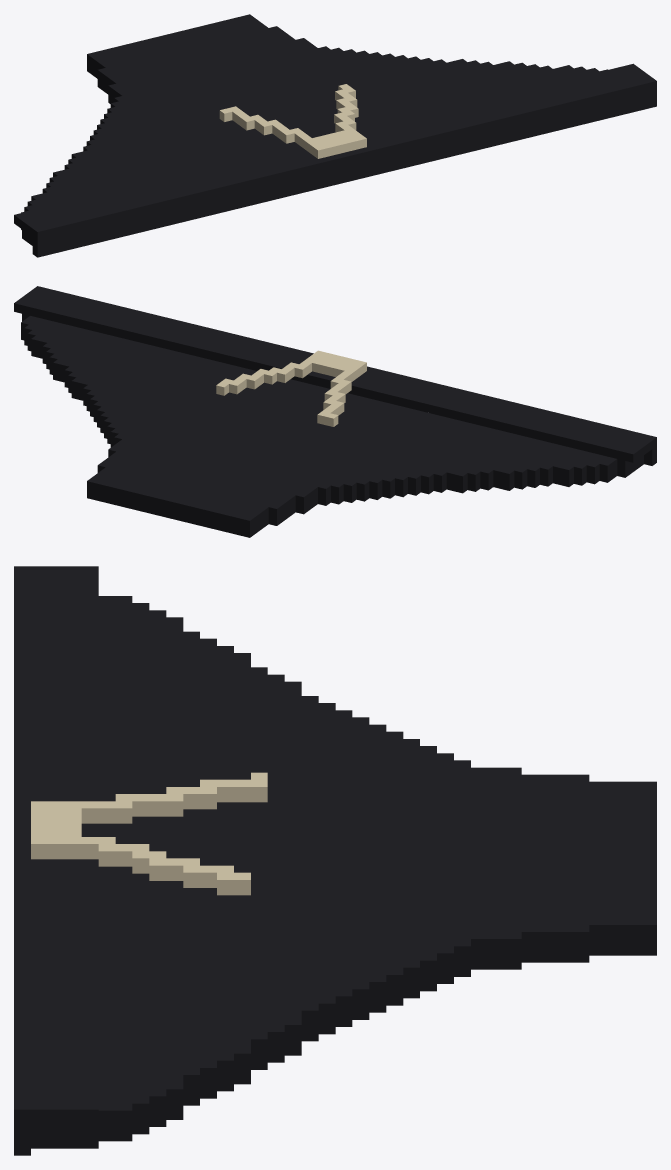
File: speedo.glb
3 renders of one model, top to bottom at view 1: azimuth 30°, elevation 25°; view 2: azimuth 150°, elevation 25°; view 3: azimuth 270°, elevation 25°, orthographic. The views are drawn at different scales.
Parts seen in each view (by area): view 1: speedo:compound; view 2: speedo:compound; view 3: speedo:compound.
Part boxes in pixels (x1=…): speedo:compound: x1=14, y1=14, x2=656, y2=257; speedo:compound: x1=14, y1=286, x2=656, y2=537; speedo:compound: x1=14, y1=566, x2=656, y2=1155.
Size of the model in its own units: 0.304 by 0.016 by 0.152.
